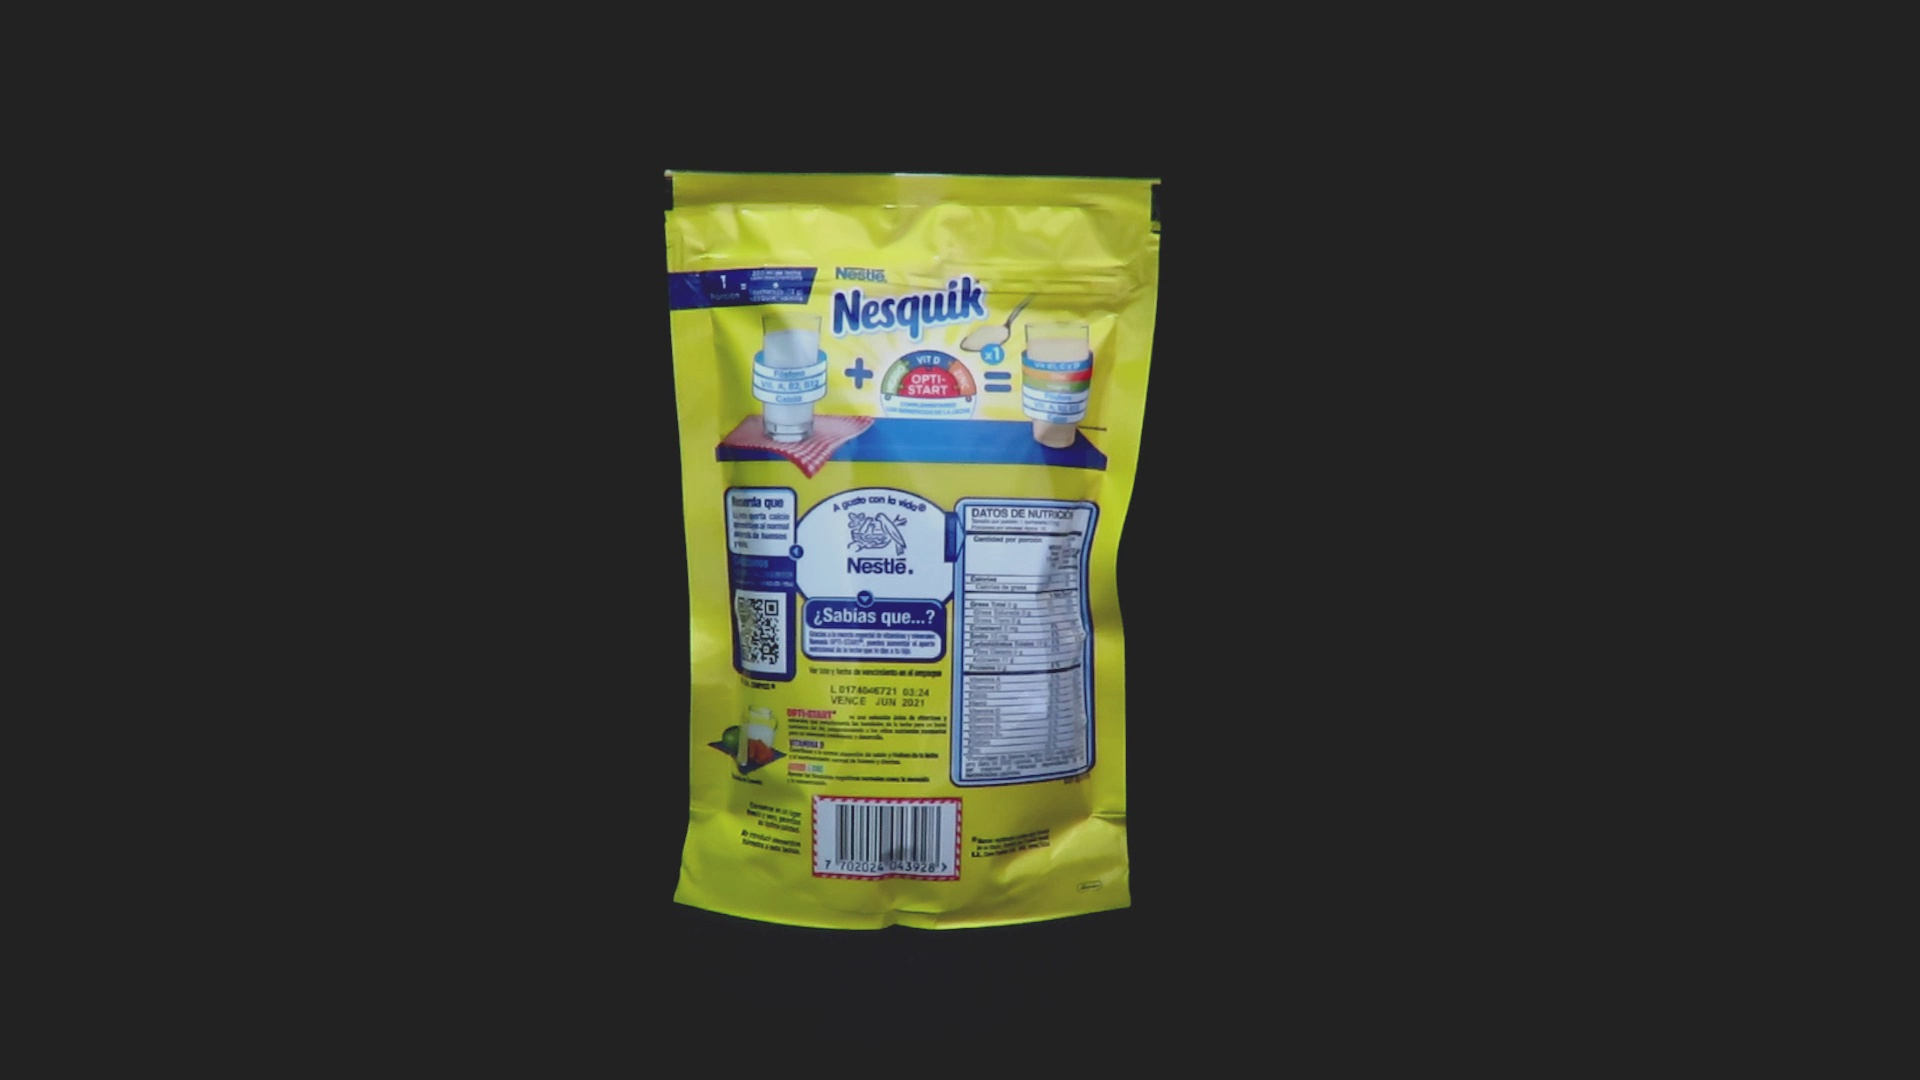COL0170306DYP20000: (659, 164, 1167, 936)
